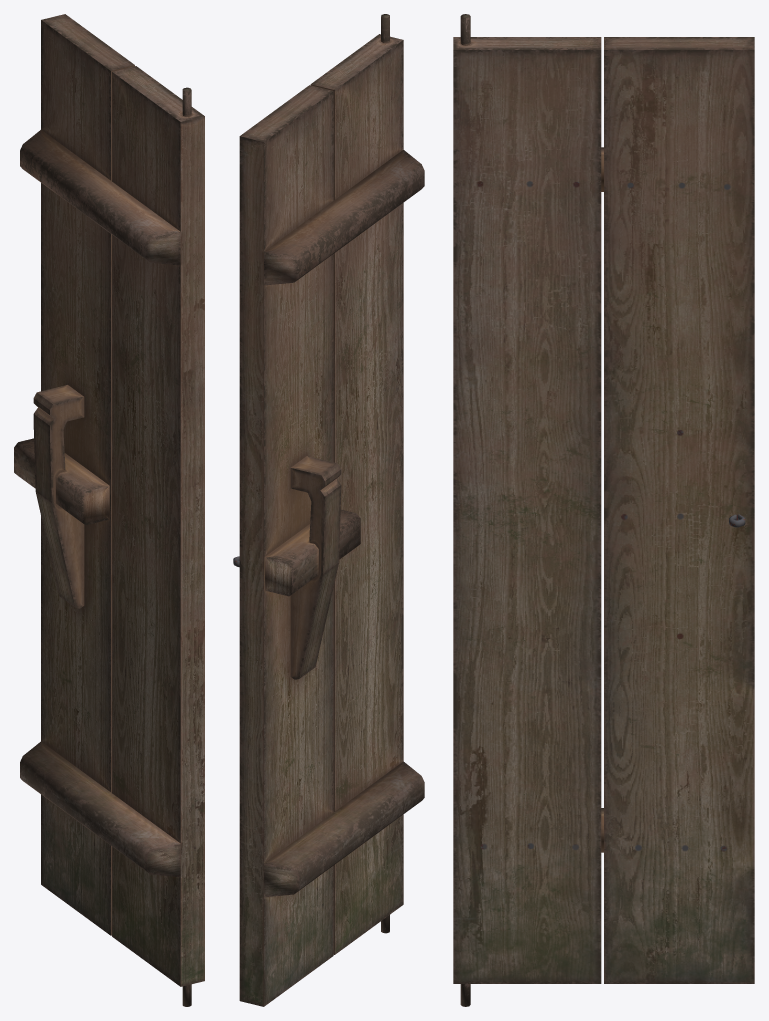
File: SM_Door02a.fbx
The picture shows the model from 3 angles, left to right: view 1: azimuth 30°, elevation 25°; view 2: azimuth 150°, elevation 25°; view 3: azimuth 270°, elevation 25°; orthographic projection. The views are drawn at different scales.
Visible parts, largest first — view 1: SM_Door02a; view 2: SM_Door02a; view 3: SM_Door02a.
Boxes of the visible parts, x1,y1,x2,y2 form: SM_Door02a: (14,14,204,1006); SM_Door02a: (233,14,424,1006); SM_Door02a: (453,14,754,1006).
Size of the model in its own units: 17.93 by 60 by 217.
Materials: 1 (1 with a texture image).
